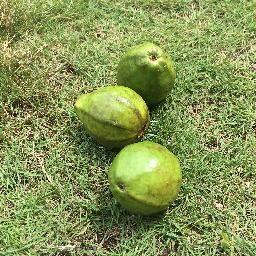guava: (107, 138, 183, 218), (69, 84, 151, 145), (116, 38, 178, 108)
